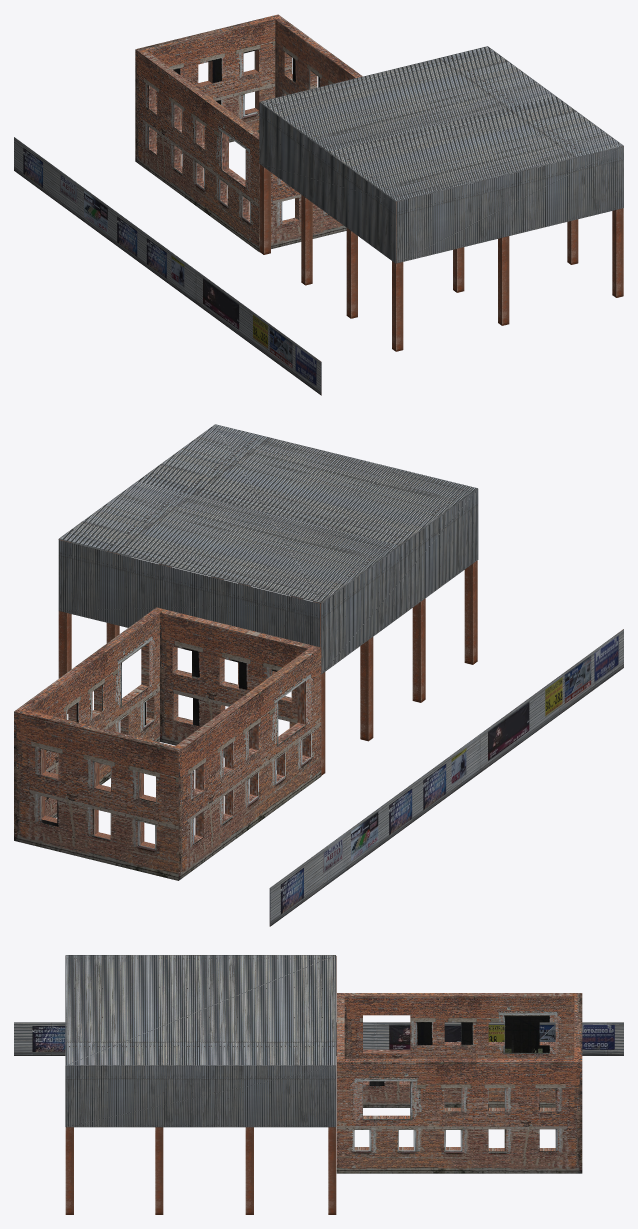
File: r402_omsk_nedostroy2.FBX
3 views of the same model, one above another, from view 1: azimuth 30°, elevation 25°; view 2: azimuth 150°, elevation 25°; view 3: azimuth 270°, elevation 25° (orthographic). The views are drawn at different scales.
Visible parts, largest first — view 1: r402_omsk_nedostroy2; view 2: r402_omsk_nedostroy2; view 3: r402_omsk_nedostroy2.
Boxes of the visible parts, x1,y1,x2,y2 form: r402_omsk_nedostroy2: (14,14,623,395); r402_omsk_nedostroy2: (14,424,623,926); r402_omsk_nedostroy2: (14,955,623,1214).
Bounding box in the file's own units: 1840 × 2977 × 804.
